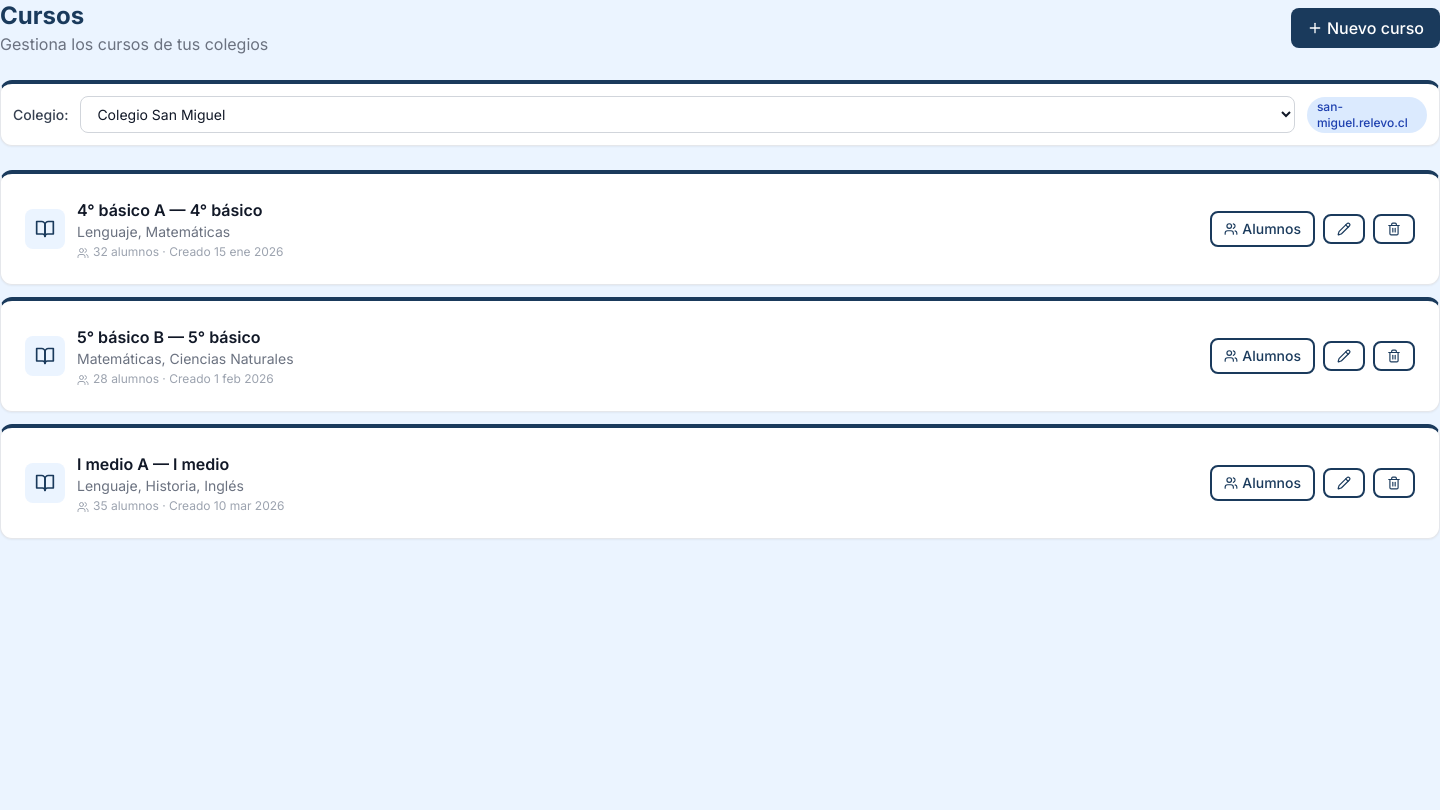
Test: CursosPage › Modal de crear curso — apertura y cierre › cierra el modal al hacer click en la X
The image size is (1440, 810).
Click the button "Nuevo curso" at coordinates (1366, 28), box left=1291, top=8, right=1439, bottom=48
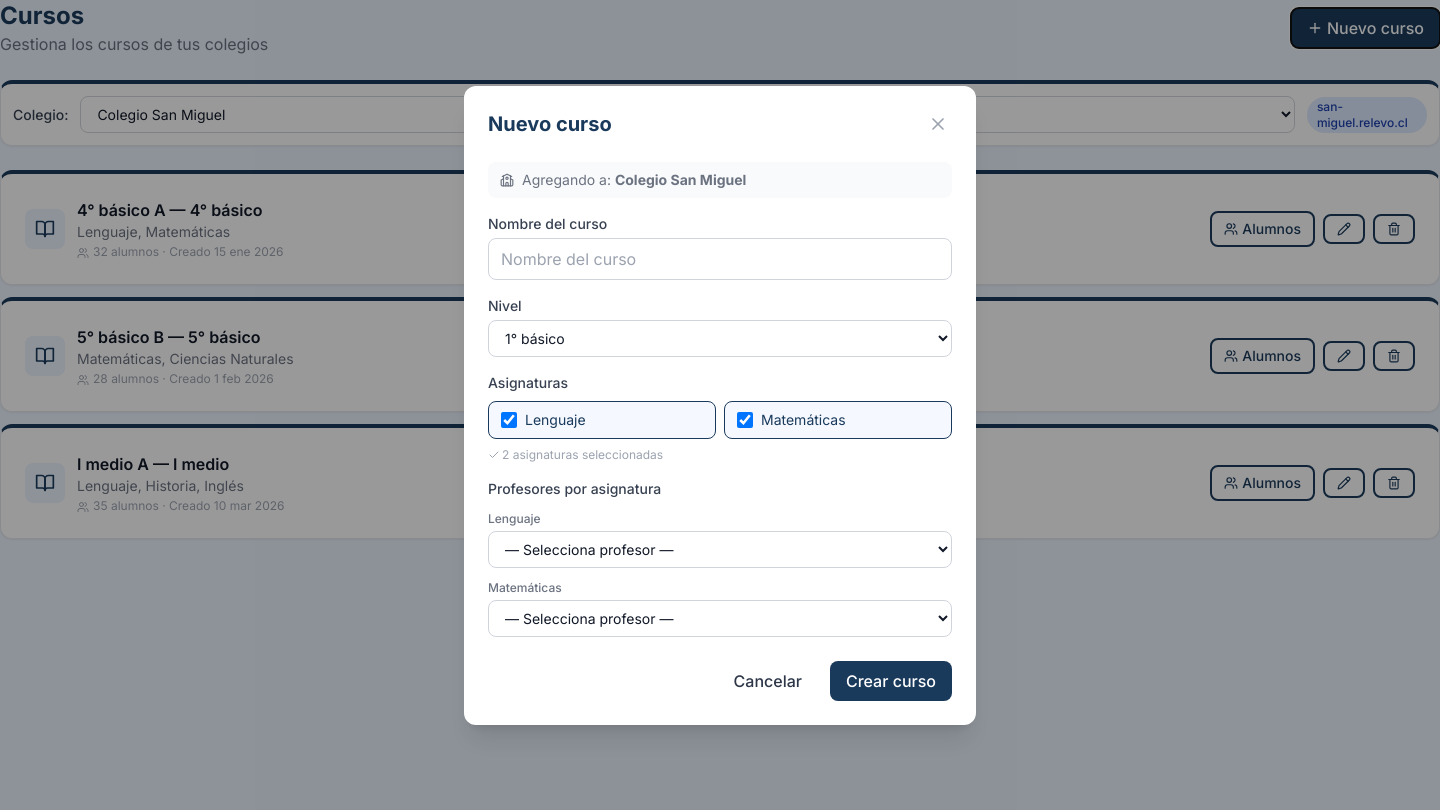
Now the dialog is shown
Click the button named "Cerrar modal" at coordinates (938, 124), box left=924, top=110, right=952, bottom=138
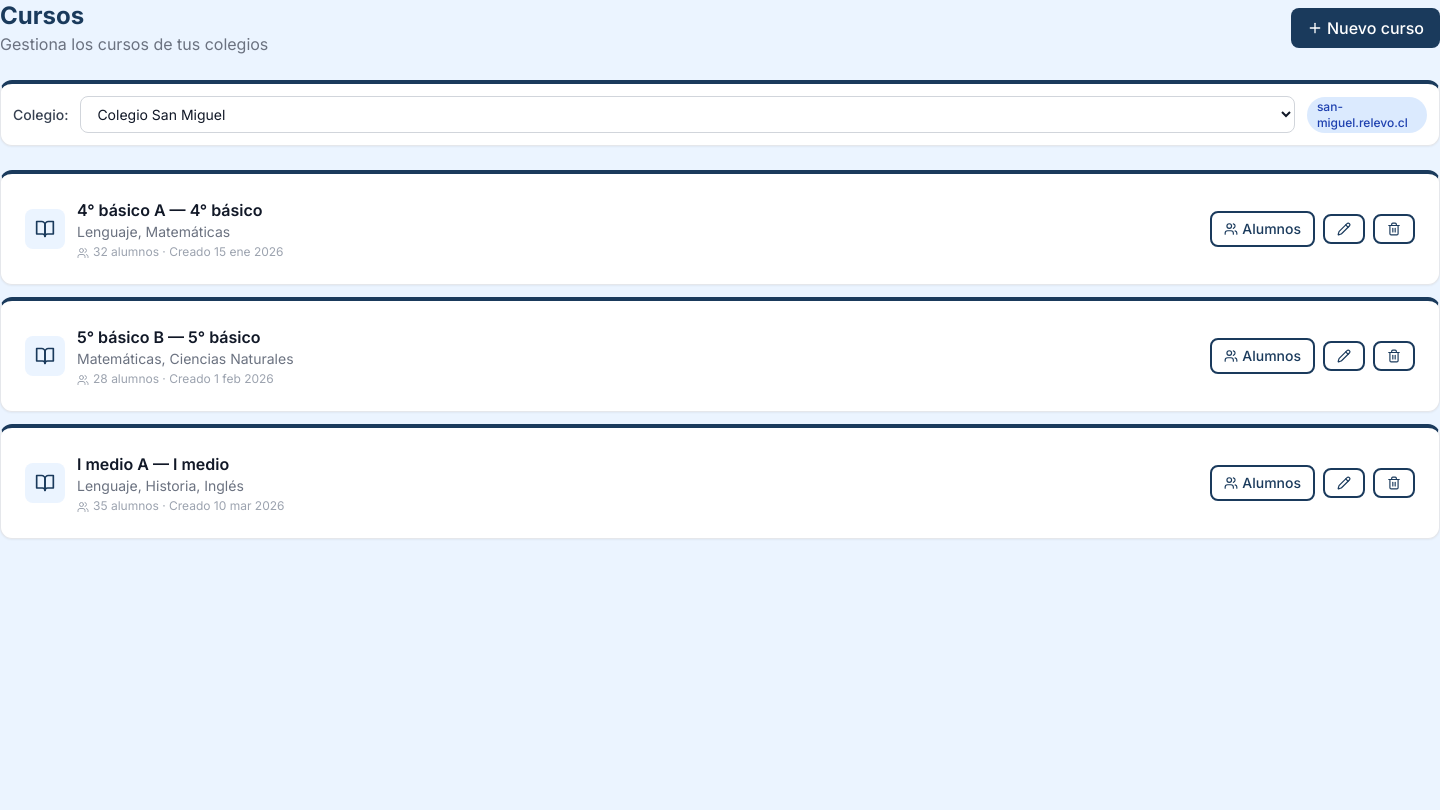
Now the dialog is gone
